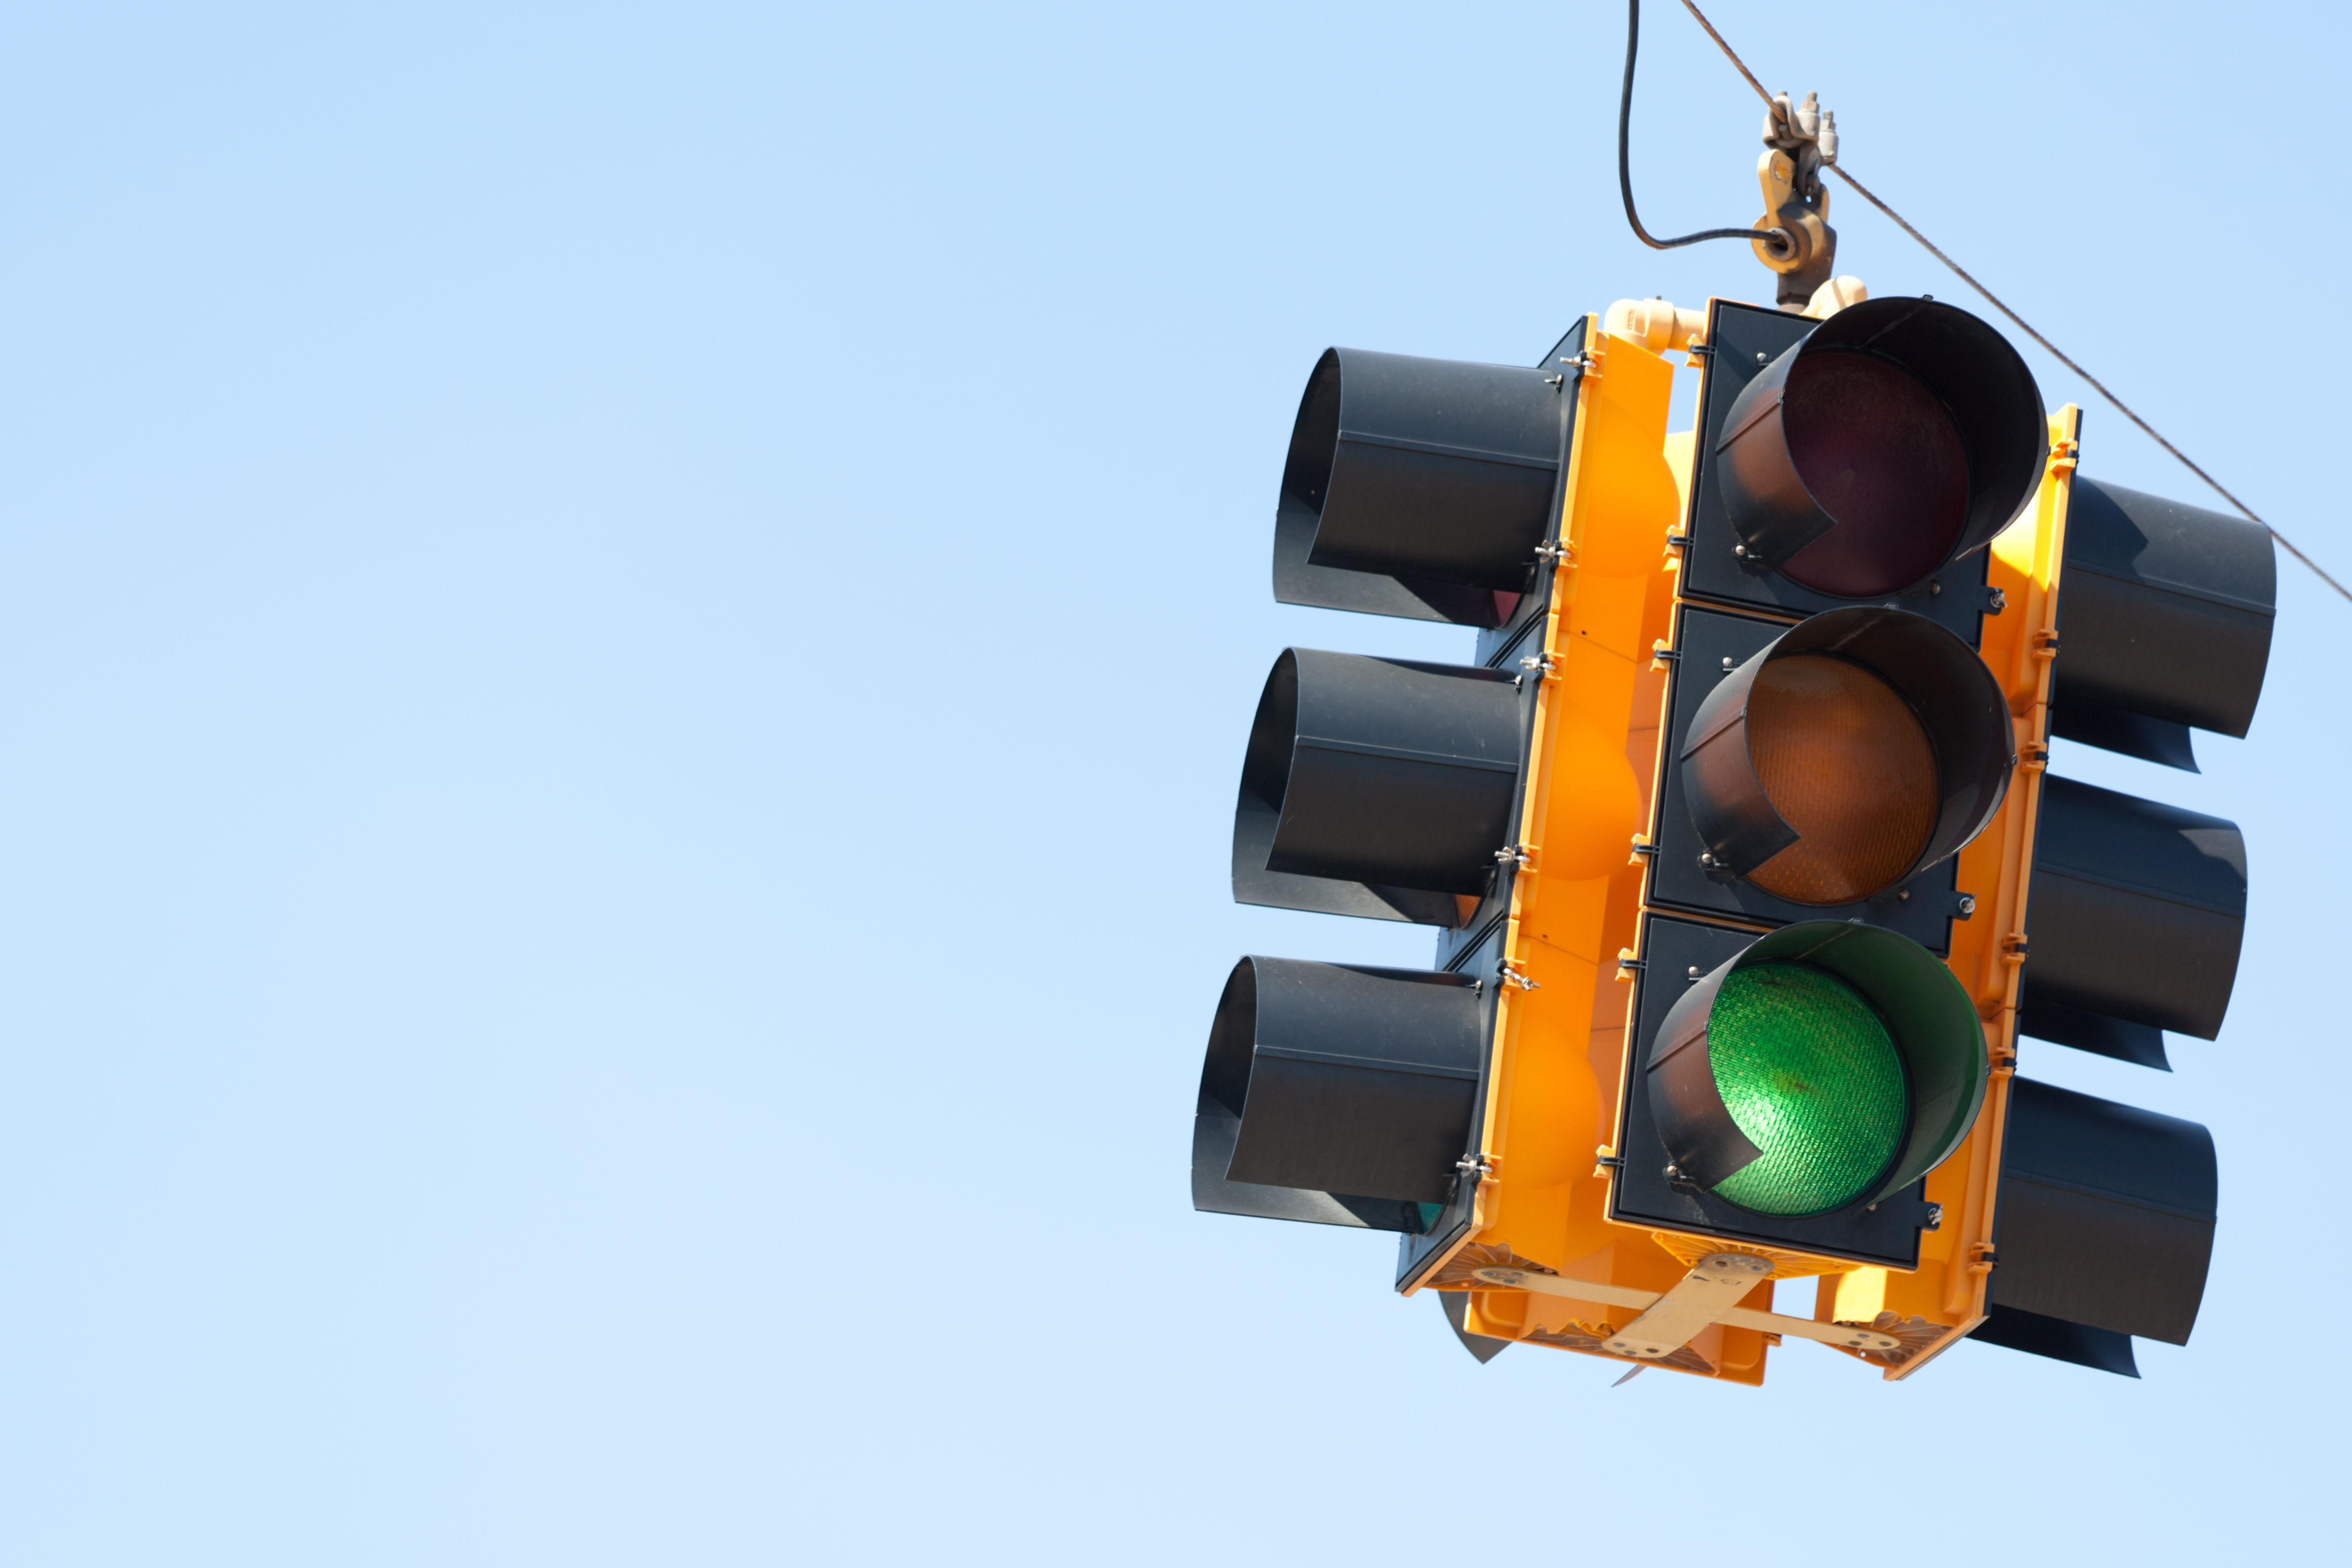traffic light: (1129, 156, 2306, 1456)
